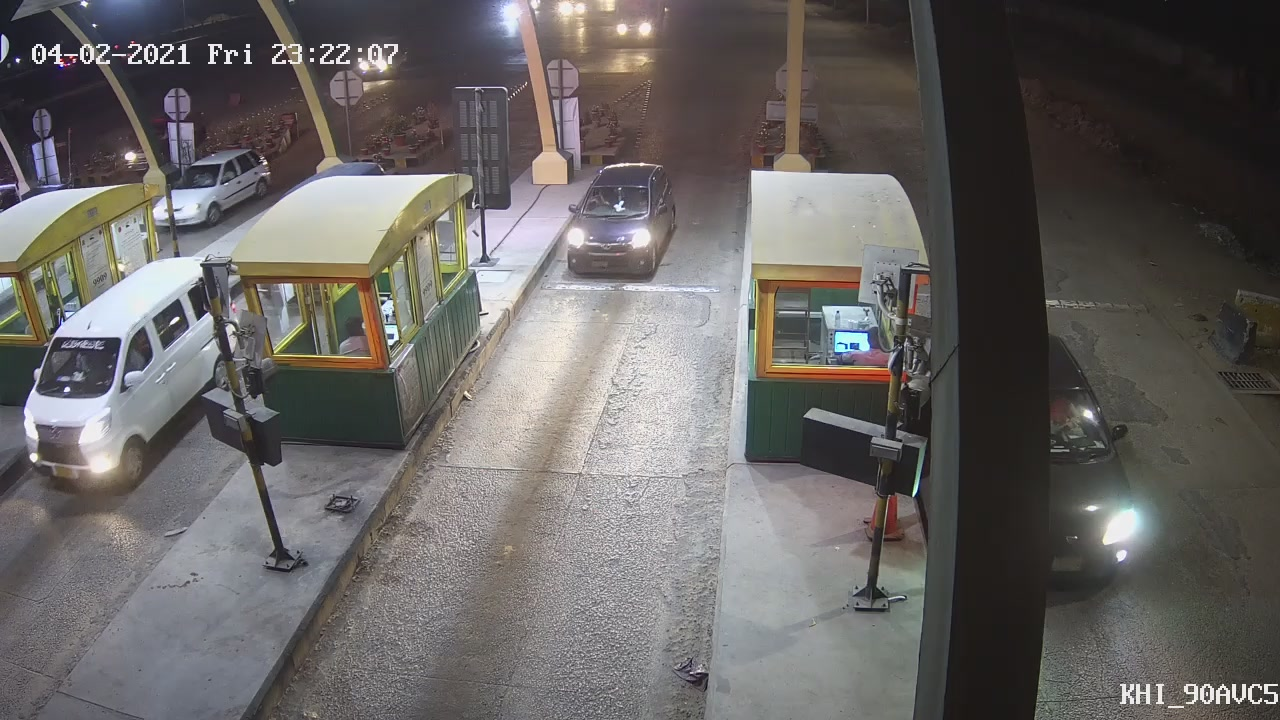F1: (562, 156, 680, 282)
